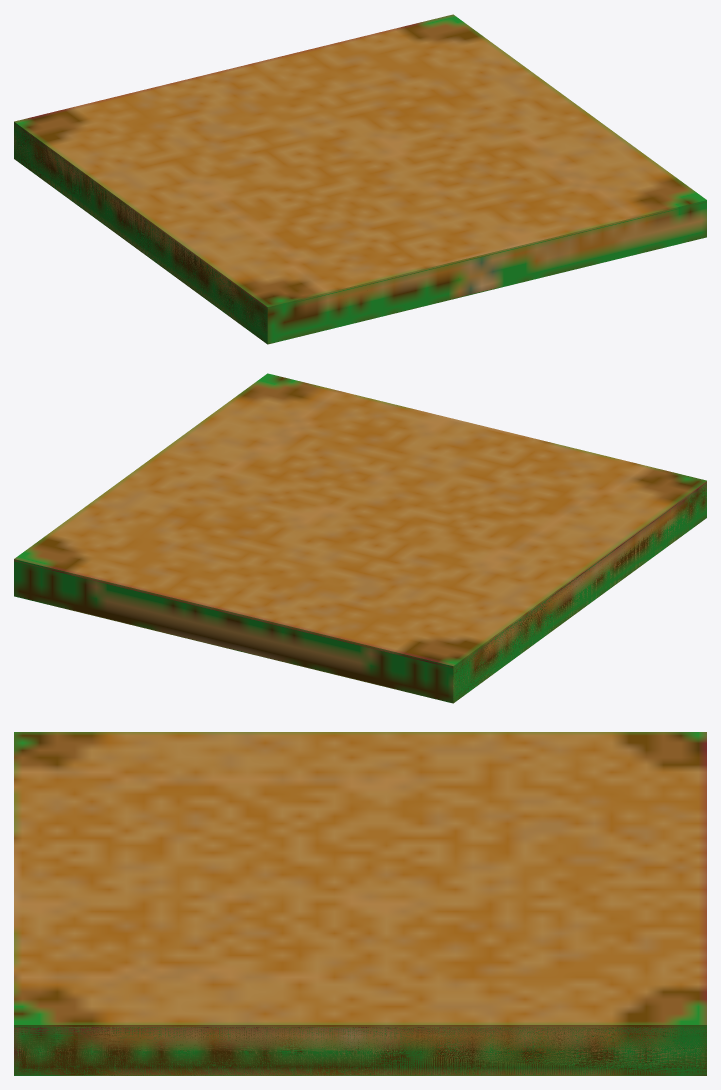
File: big path fbx.fbx
3 renders of one model, top to bottom at view 1: azimuth 30°, elevation 25°; view 2: azimuth 150°, elevation 25°; view 3: azimuth 270°, elevation 25°, orthographic. The views are drawn at different scales.
Visible parts, largest first — view 1: Untitled.007, Untitled.001, Untitled.002, Untitled.003, Untitled, Untitled.010, Untitled.009; view 2: Untitled.007, Untitled, Untitled.002, Untitled.004, Untitled.010, Untitled.009, Untitled.003; view 3: Untitled.007, Untitled, Untitled.002, Untitled.001, Untitled.009, Untitled.003, Untitled.004, Untitled.005.
Boxes of the visible parts, <box> form: Untitled.007: <box>14,14,706,340</box>; Untitled.001: <box>14,125,706,343</box>; Untitled.002: <box>14,125,706,344</box>; Untitled.003: <box>14,125,706,342</box>; Untitled: <box>14,124,266,330</box>; Untitled.010: <box>33,146,267,342</box>; Untitled.009: <box>15,124,265,312</box>; Untitled.007: <box>14,373,706,677</box>; Untitled: <box>14,483,706,702</box>; Untitled.002: <box>392,489,706,702</box>; Untitled.004: <box>14,484,706,703</box>; Untitled.010: <box>453,497,706,700</box>; Untitled.009: <box>14,482,706,678</box>; Untitled.003: <box>453,491,706,673</box>; Untitled.007: <box>14,732,706,1071</box>; Untitled: <box>14,1028,706,1074</box>; Untitled.002: <box>14,1028,706,1075</box>; Untitled.001: <box>14,1028,706,1074</box>; Untitled.009: <box>16,1026,706,1073</box>; Untitled.003: <box>14,1027,706,1074</box>; Untitled.004: <box>14,1029,706,1075</box>; Untitled.005: <box>14,1027,690,1073</box>.
Size of the model in its own units: 400 by 32.49 by 400.
1 material, 1 textured.
